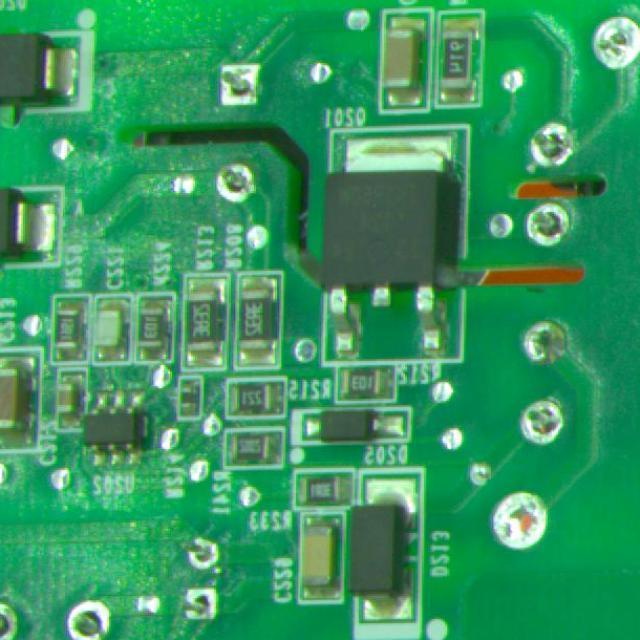Insufficient solder: (478, 484, 562, 556), (518, 114, 588, 180), (198, 55, 271, 116), (579, 9, 640, 74), (515, 394, 570, 452), (524, 198, 578, 252), (65, 589, 115, 640), (172, 582, 224, 626), (208, 160, 259, 204), (176, 536, 225, 576), (0, 599, 25, 640)
